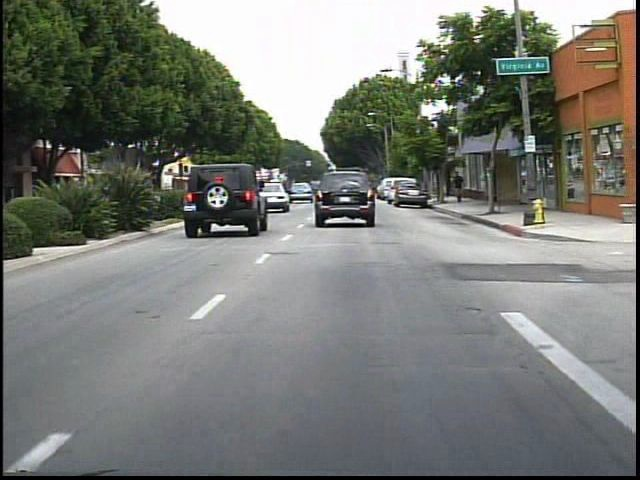person: (448, 169, 468, 208)
